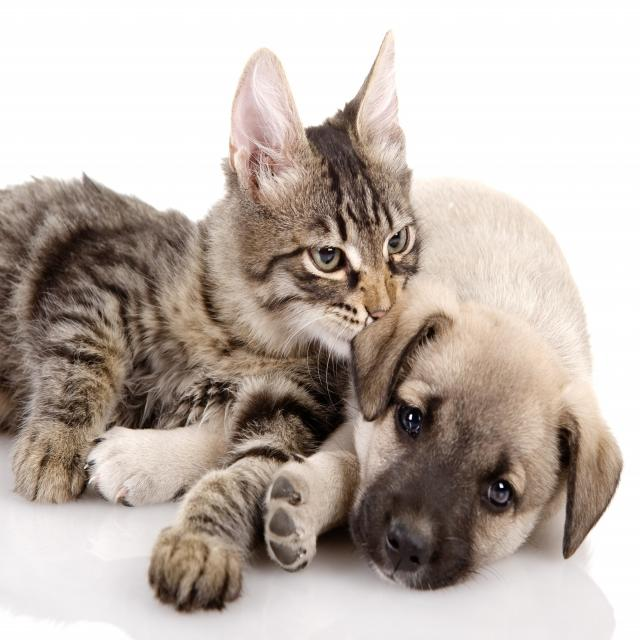cat: (0, 34, 415, 375)
dog: (341, 116, 625, 598)
